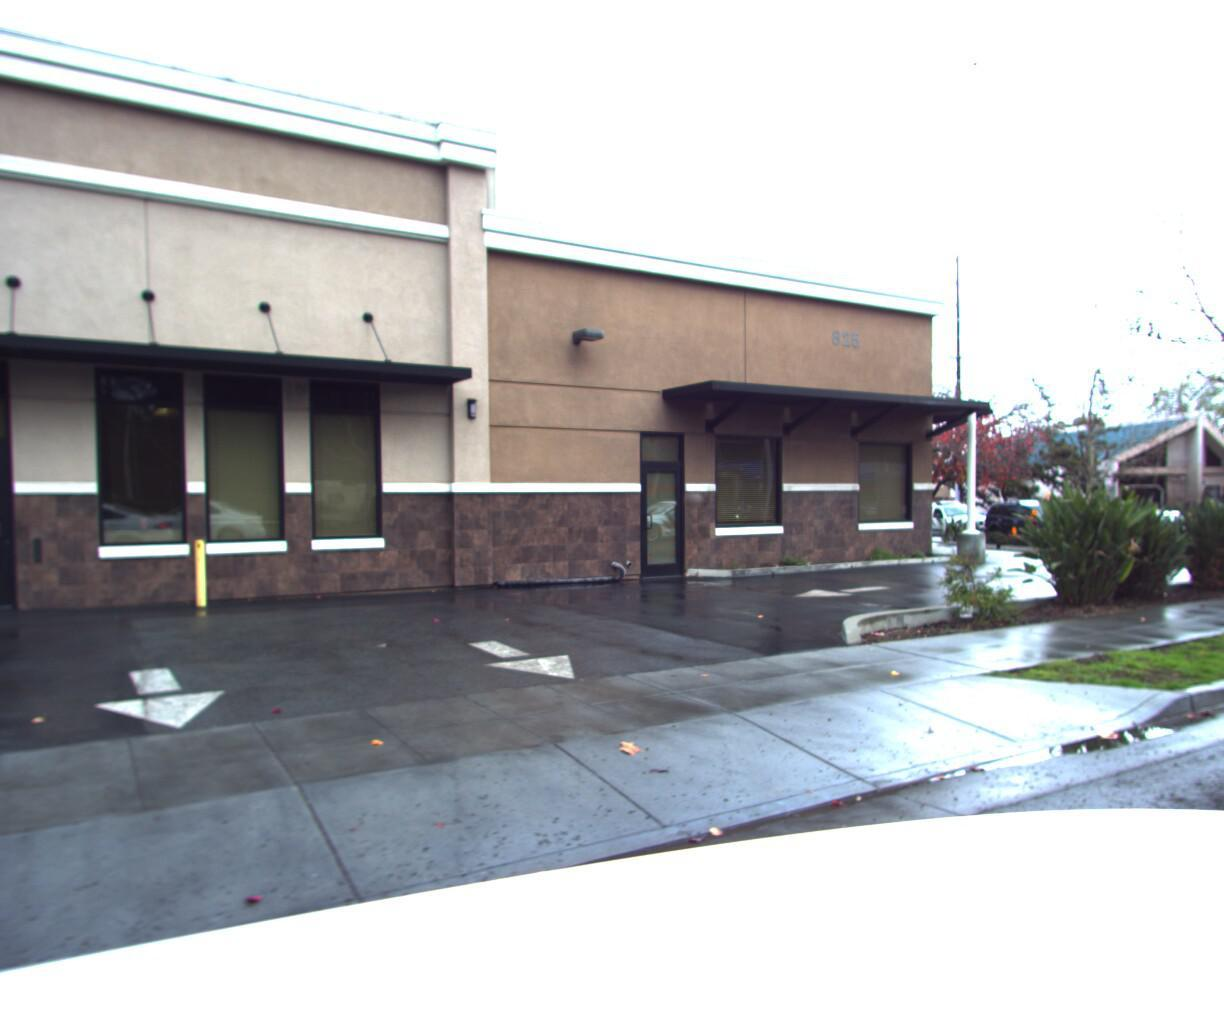car: (980, 499, 1114, 553), (908, 500, 1006, 547)
